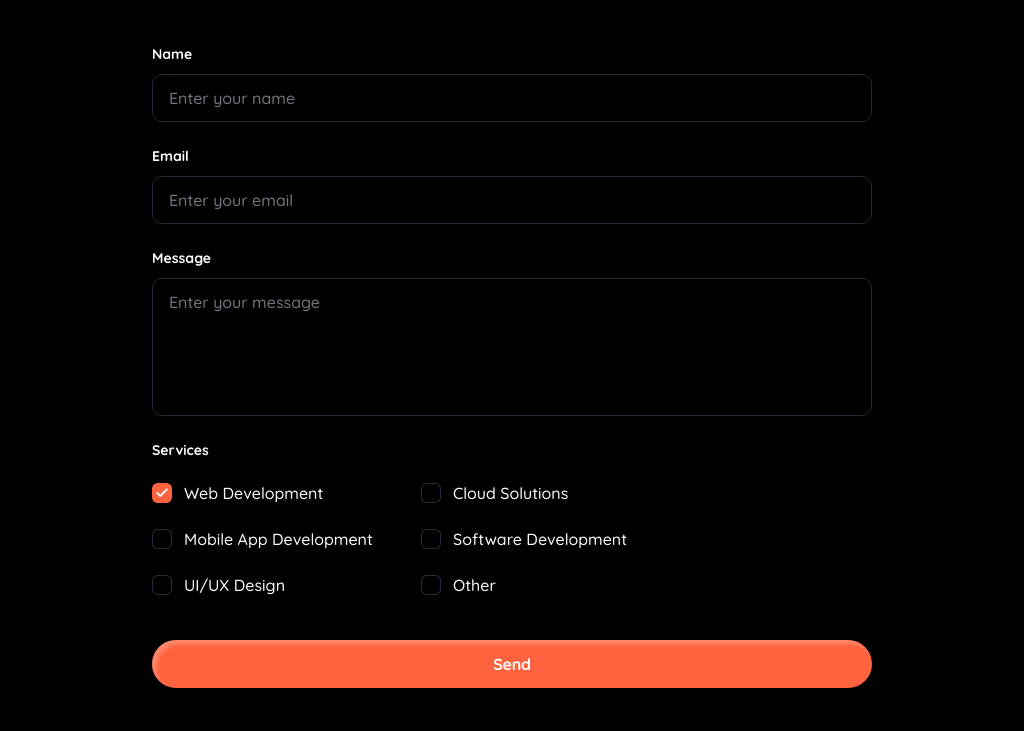
Test: ContactFormSection › shows a required-field error for every empty field on submit
(page scrolled)
Click the button "Send": (512, 664) [152,640,872,688]
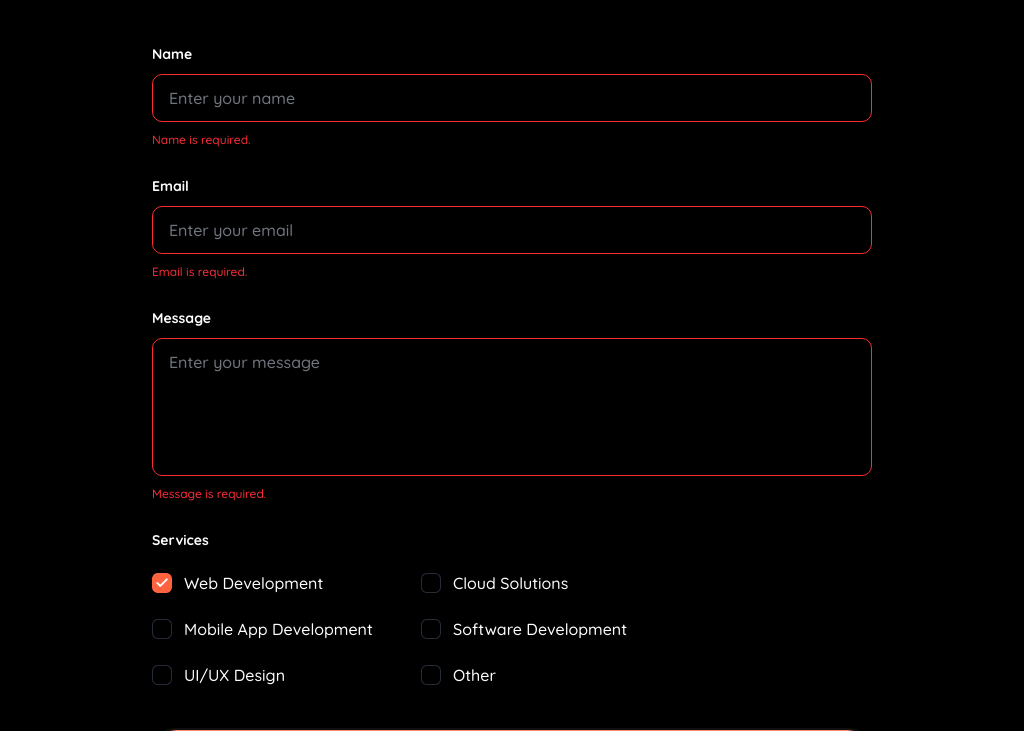
Expected: the text "Name is required." is shown, [152,128,250,152]
Expected: the text "Email is required." is shown, [152,260,247,284]
Expected: the text "Message is required." is shown, [152,482,266,506]
